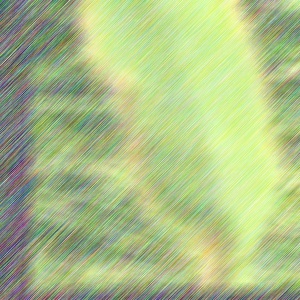Leaf_Blast: (73, 0, 280, 280)
